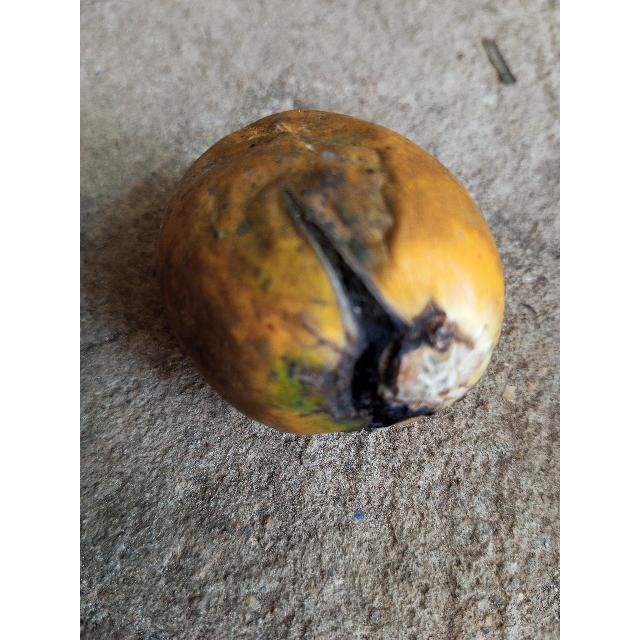damaged: (156, 109, 506, 438)
